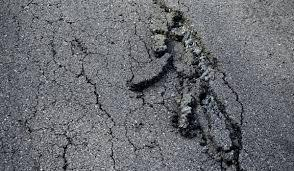alligator-crack: (5, 1, 243, 171)
